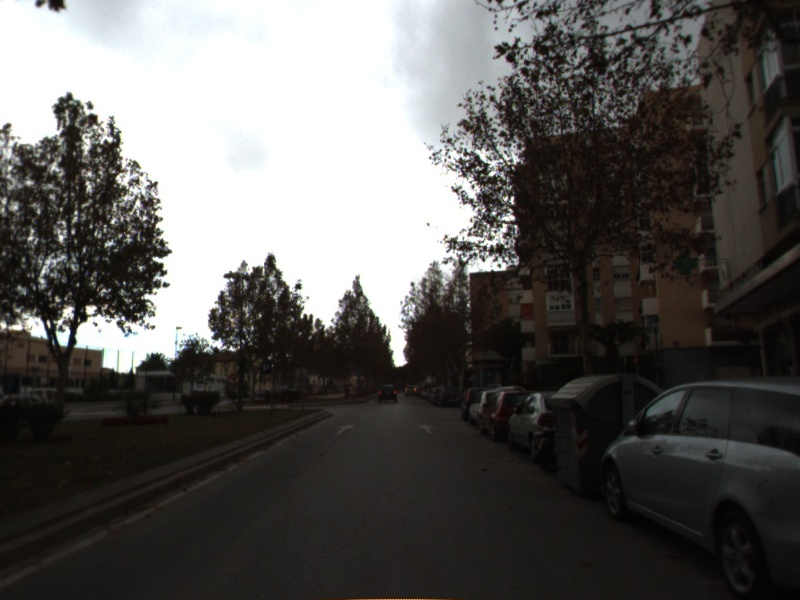STRAIGHT: (332, 422, 357, 437), (416, 422, 439, 436)
